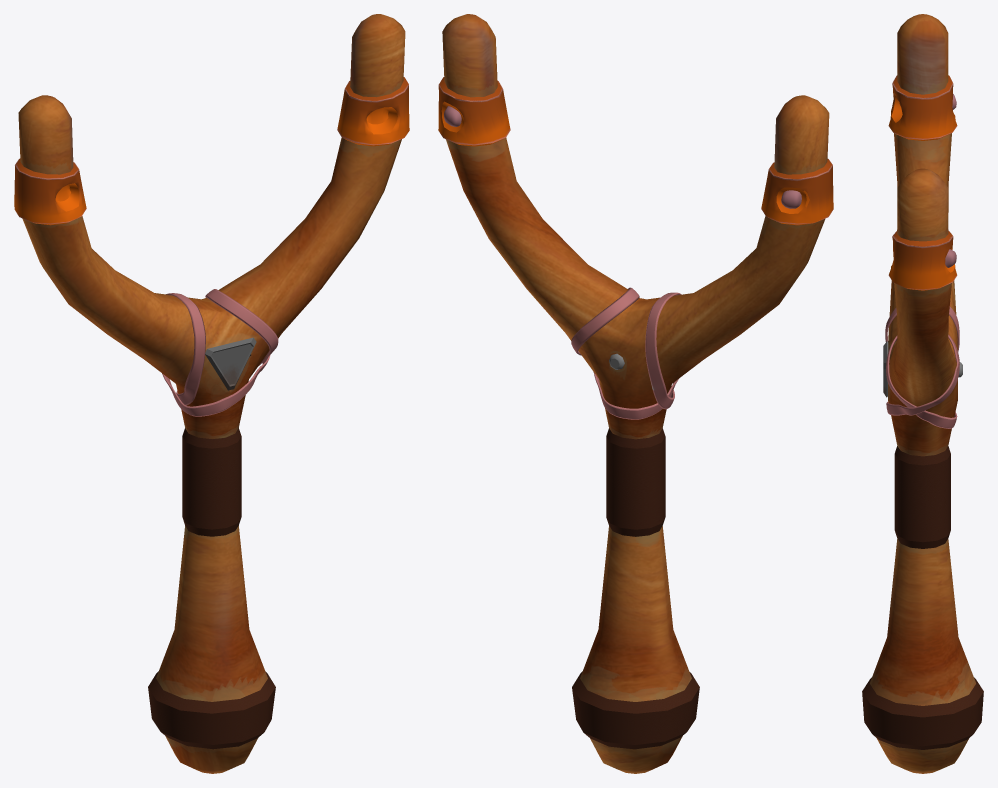
Rendered from slingshot.glb.
3 renders of one model, left to right at view 1: azimuth 30°, elevation 25°; view 2: azimuth 150°, elevation 25°; view 3: azimuth 270°, elevation 25°, orthographic. The views are drawn at different scales.
Parts seen in each view (by area): view 1: slingshotbase; view 2: slingshotbase; view 3: slingshotbase.
Boxes of the visible parts, x1,y1,x2,y2 form: slingshotbase: [14, 14, 409, 773]; slingshotbase: [438, 14, 833, 773]; slingshotbase: [862, 14, 983, 773].
Bounding box in the file's own units: 65.17 × 114 × 18.78.
2 materials, 2 textured.
